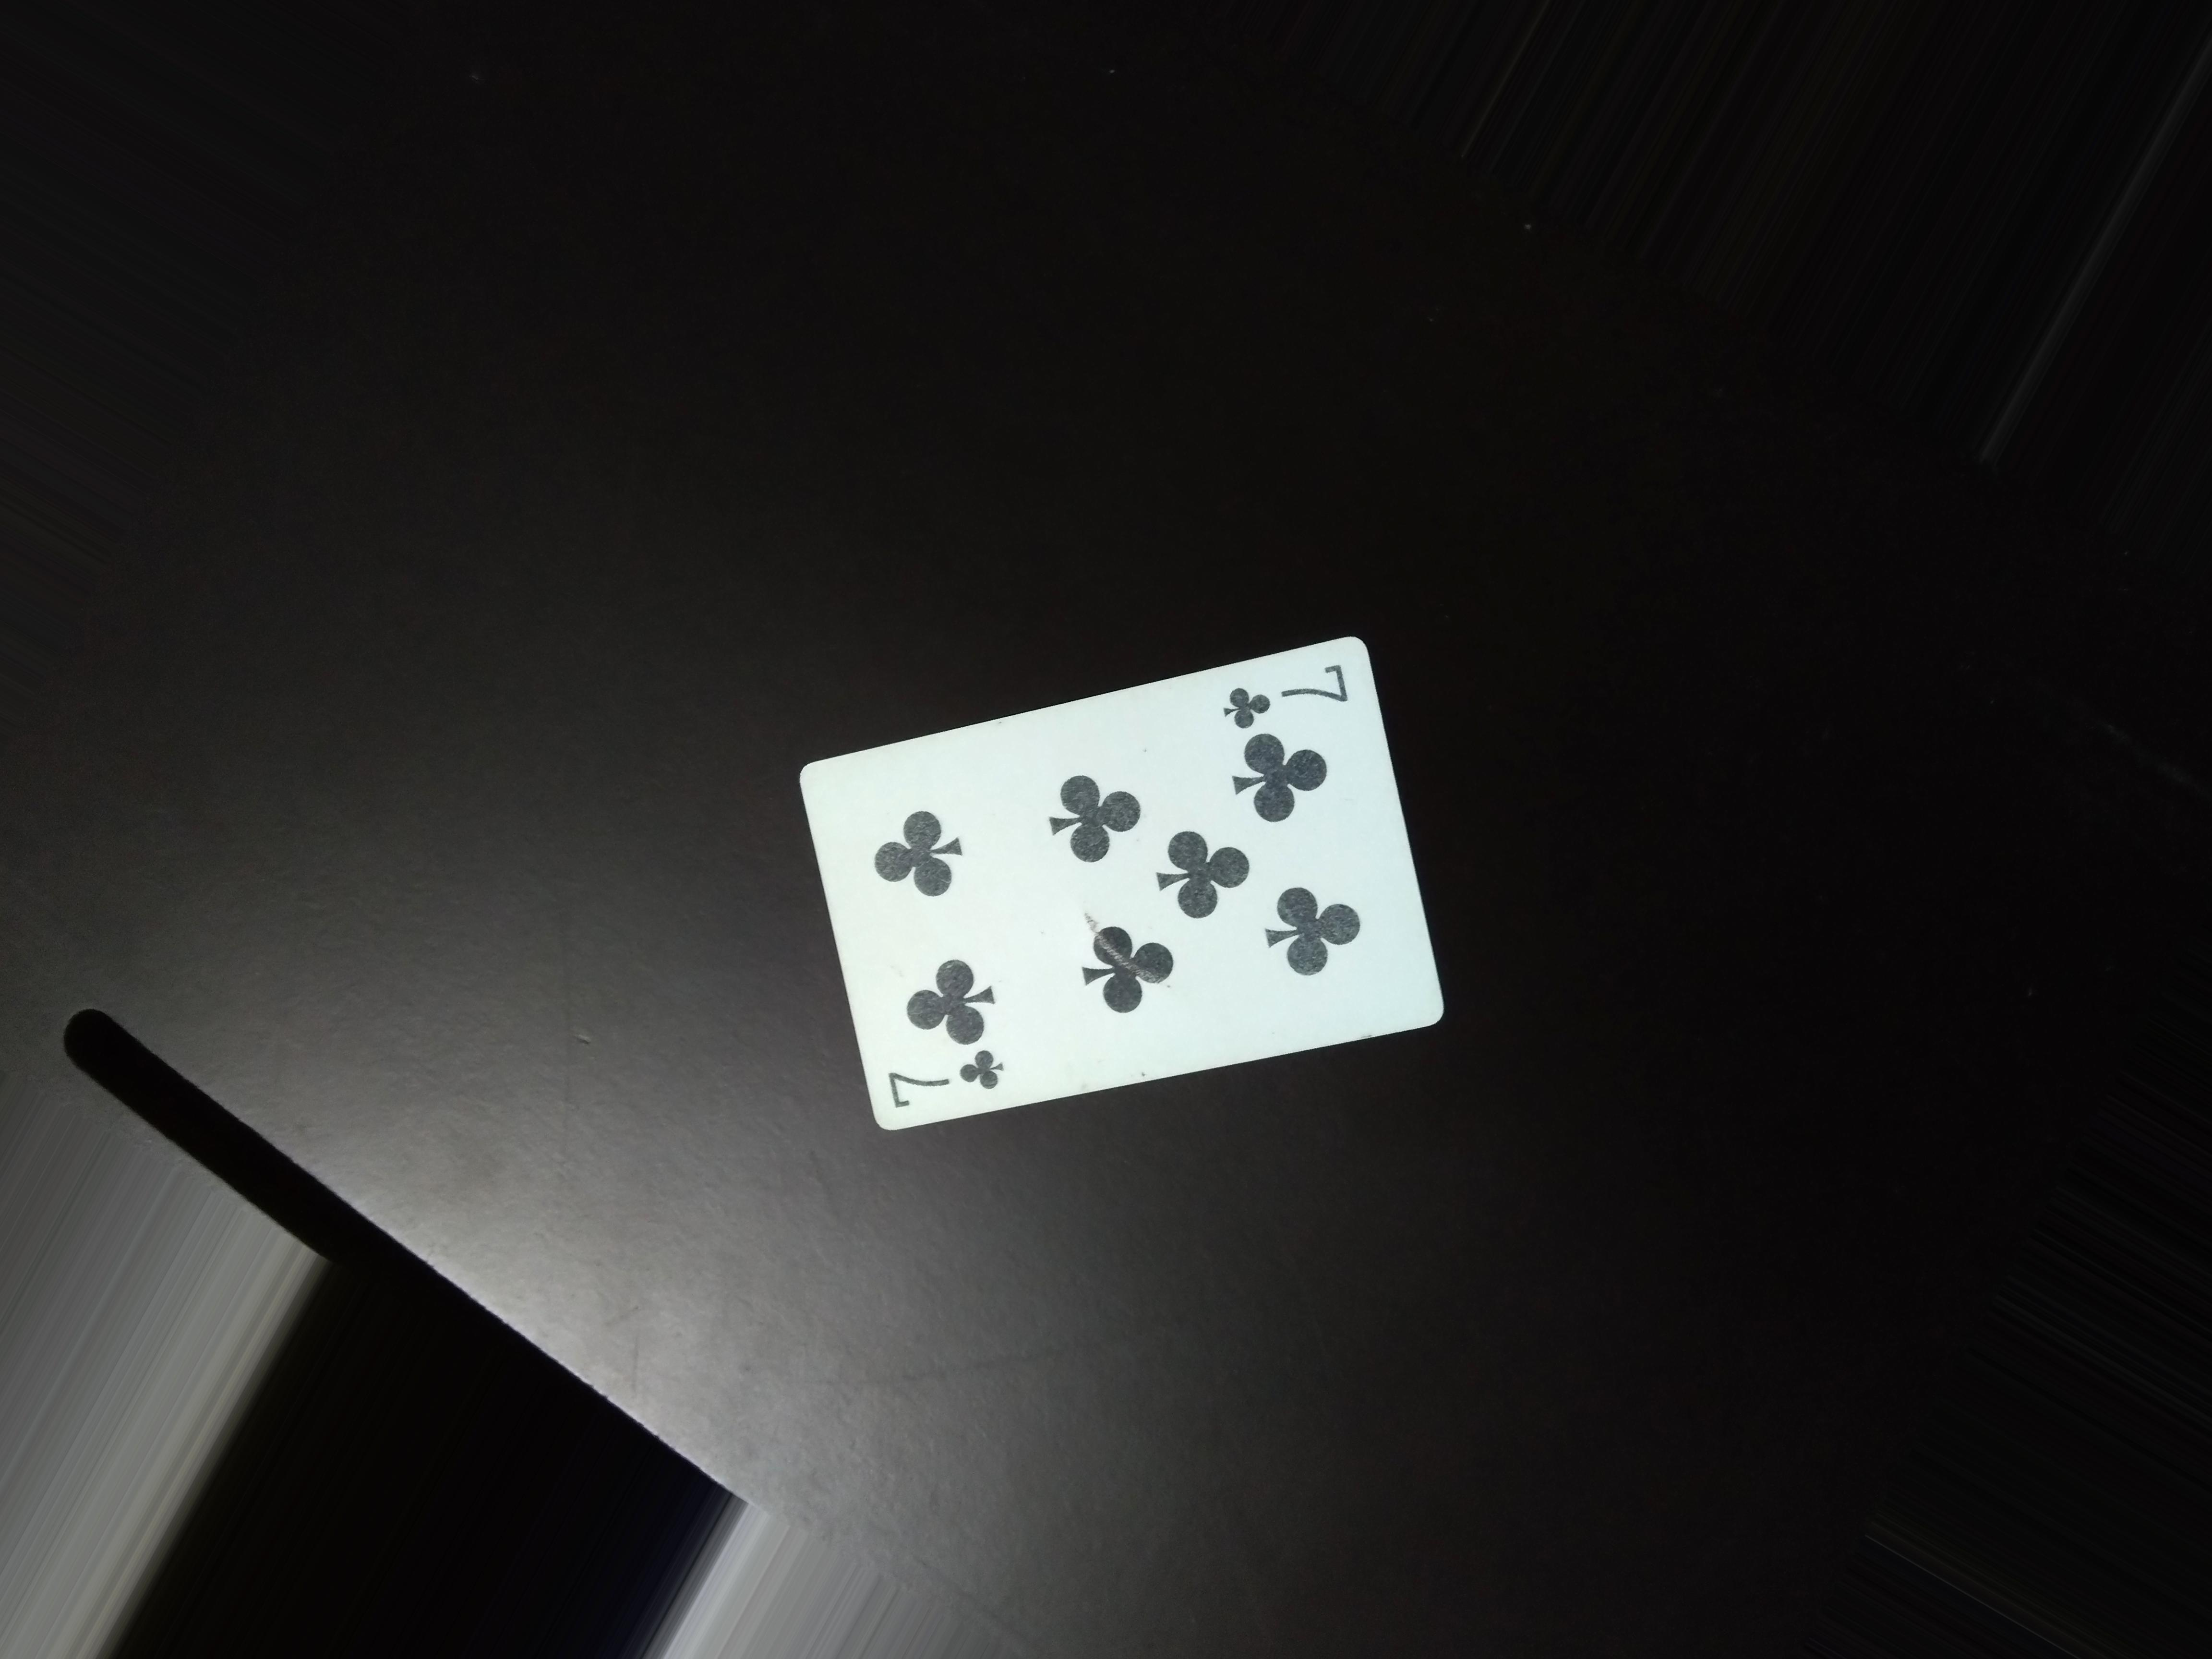7C: (1202, 660, 1366, 727)
